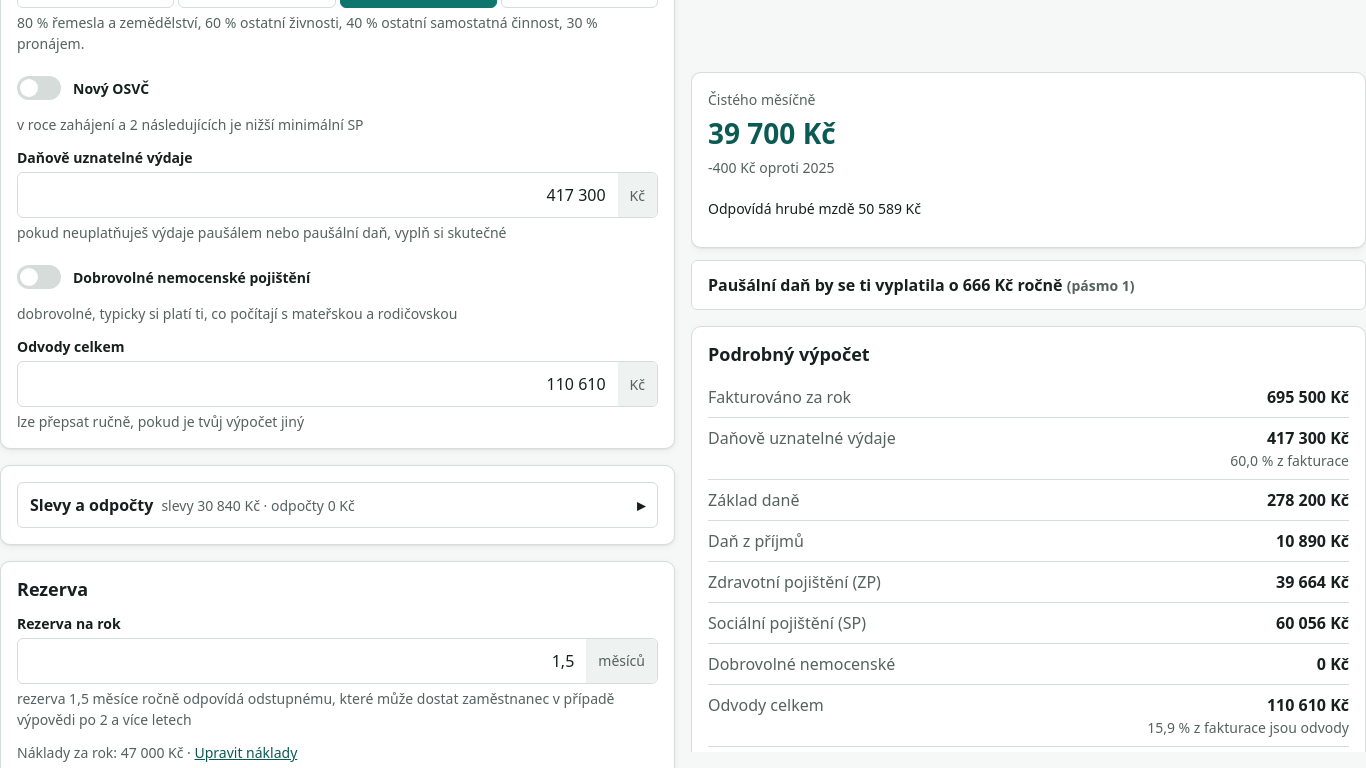
CalcScreen with the 2026 defaults › overrides the total levies, marks the override and restores the calculated value
(page scrolled)
Step 1. Replace the text in the field labelled "Odvody celkem" with "100000" → {"x": 318, "y": 384}, box [18,362,618,406]
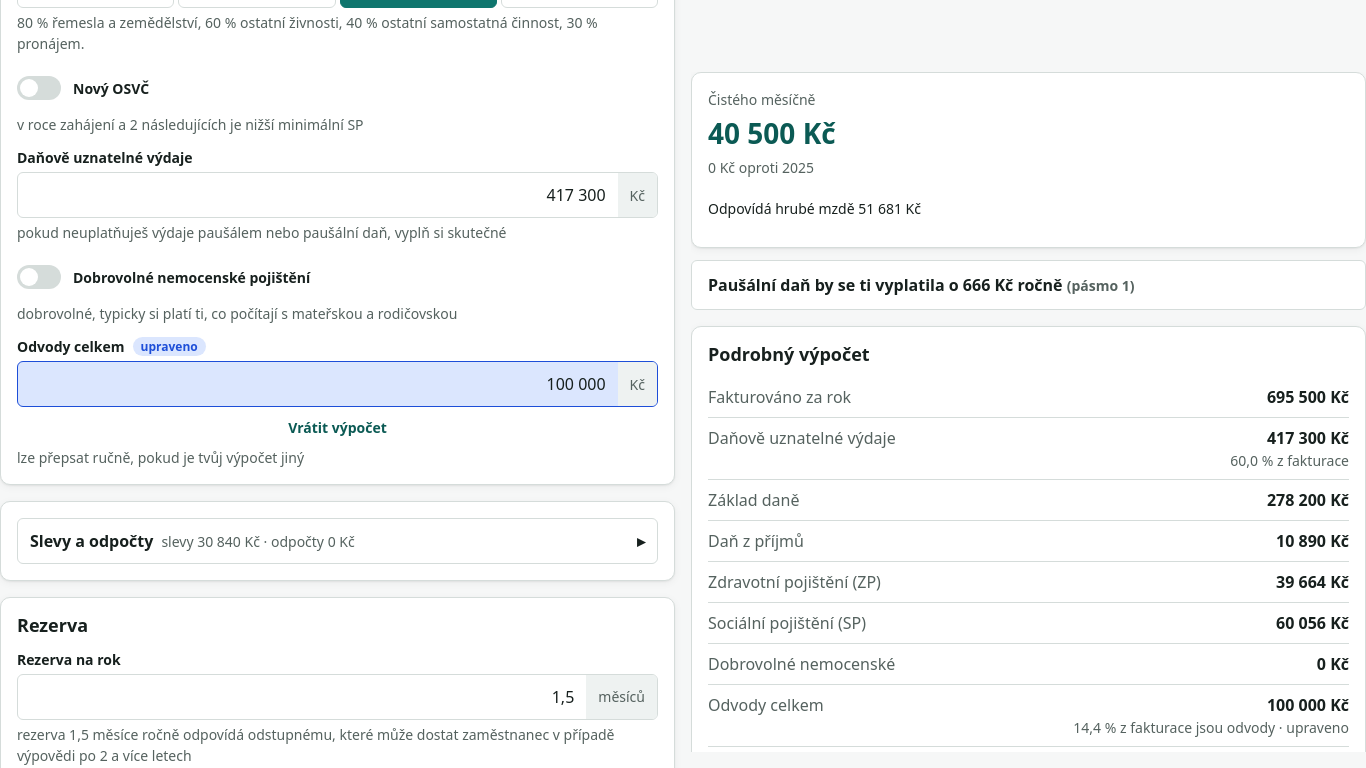
Check: the text "100 000 Kč" is shown, box [1267,694,1349,716]
Check: the text "upraveno" is shown, box [133,337,206,356]
Step 2. Click the button "Vrátit výpočet" → {"x": 338, "y": 427}, box [17,411,658,443]
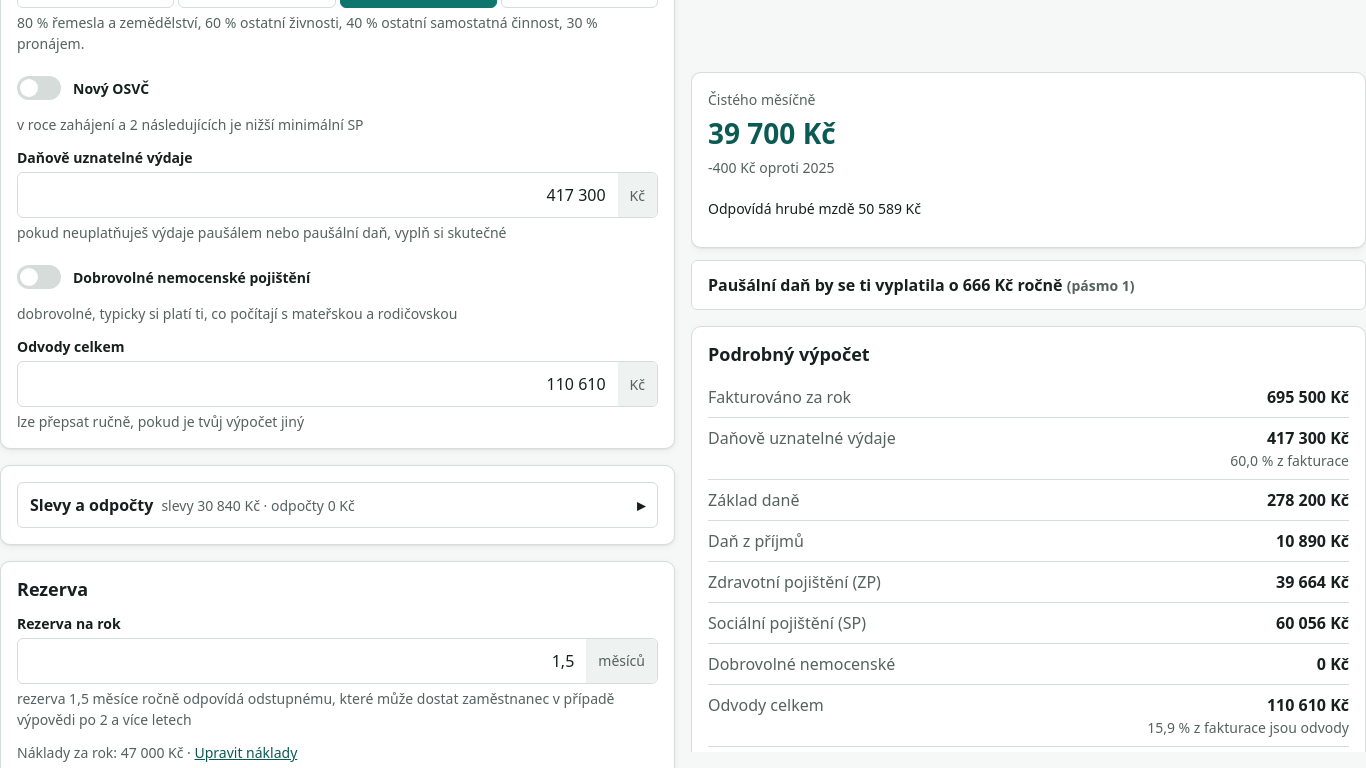
Check: the element showing "Odvody celkem 110 610 Kč 15,9 % z fakturace jsou odvody" is shown, box [708,685,1349,747]
Check: the text "upraveno" is gone
